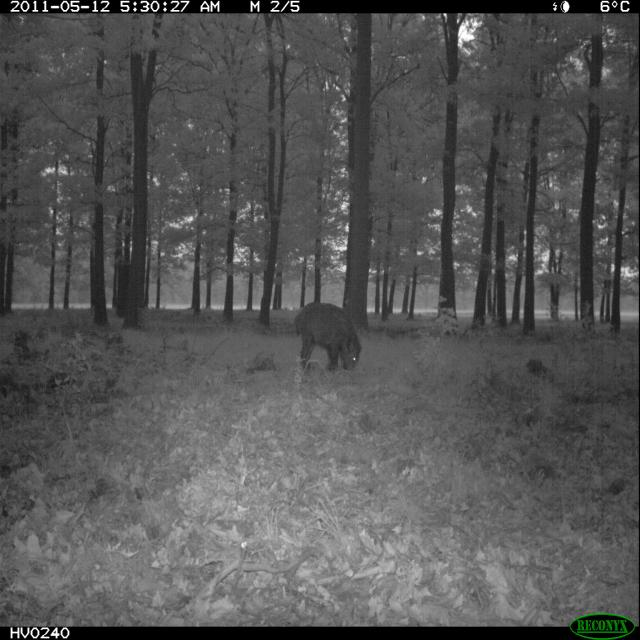boar: (274, 289, 379, 400)
